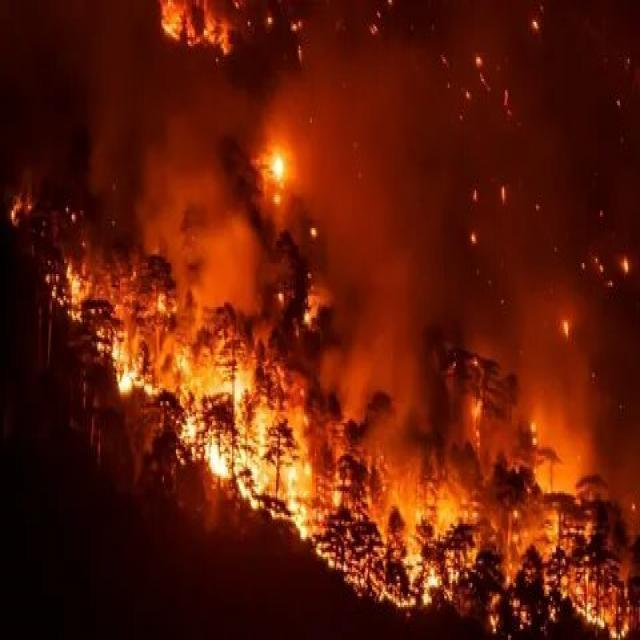Fire: (84, 284, 382, 595)
Smoke: (250, 0, 640, 362)
